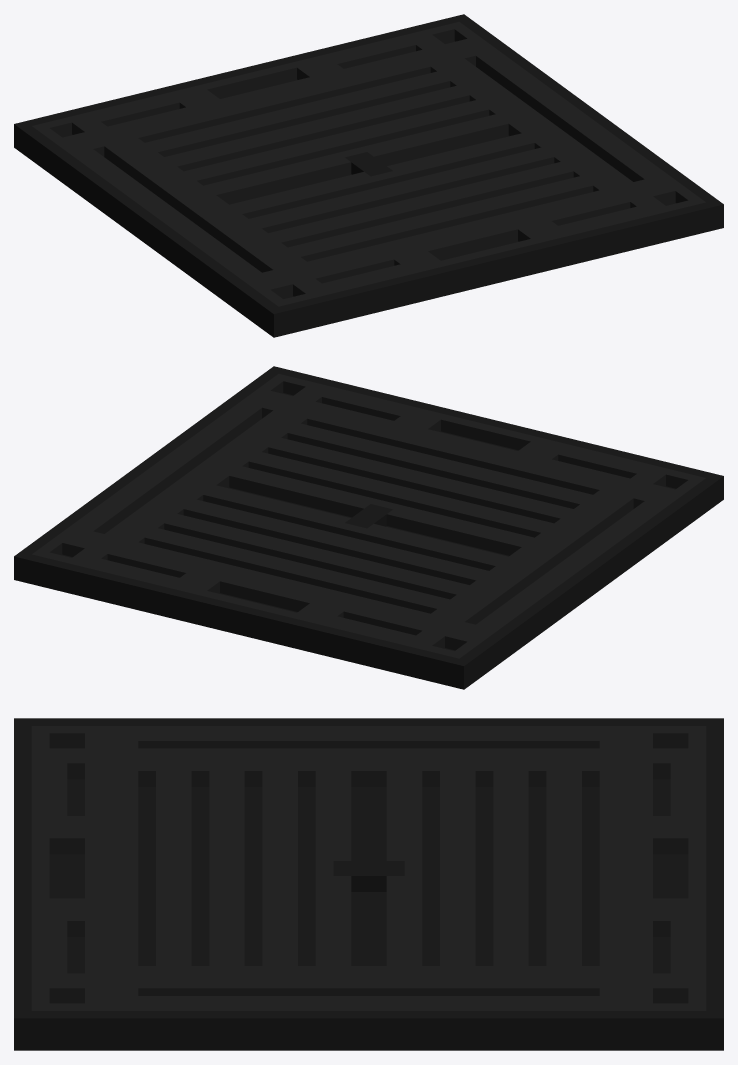
File: SteamVent.obj
3 renders of one model, top to bottom at view 1: azimuth 30°, elevation 25°; view 2: azimuth 150°, elevation 25°; view 3: azimuth 270°, elevation 25°, orthographic. The views are drawn at different scales.
Bounding box in the file's own units: 4 × 0.2 × 4.
1 material, 1 textured.
